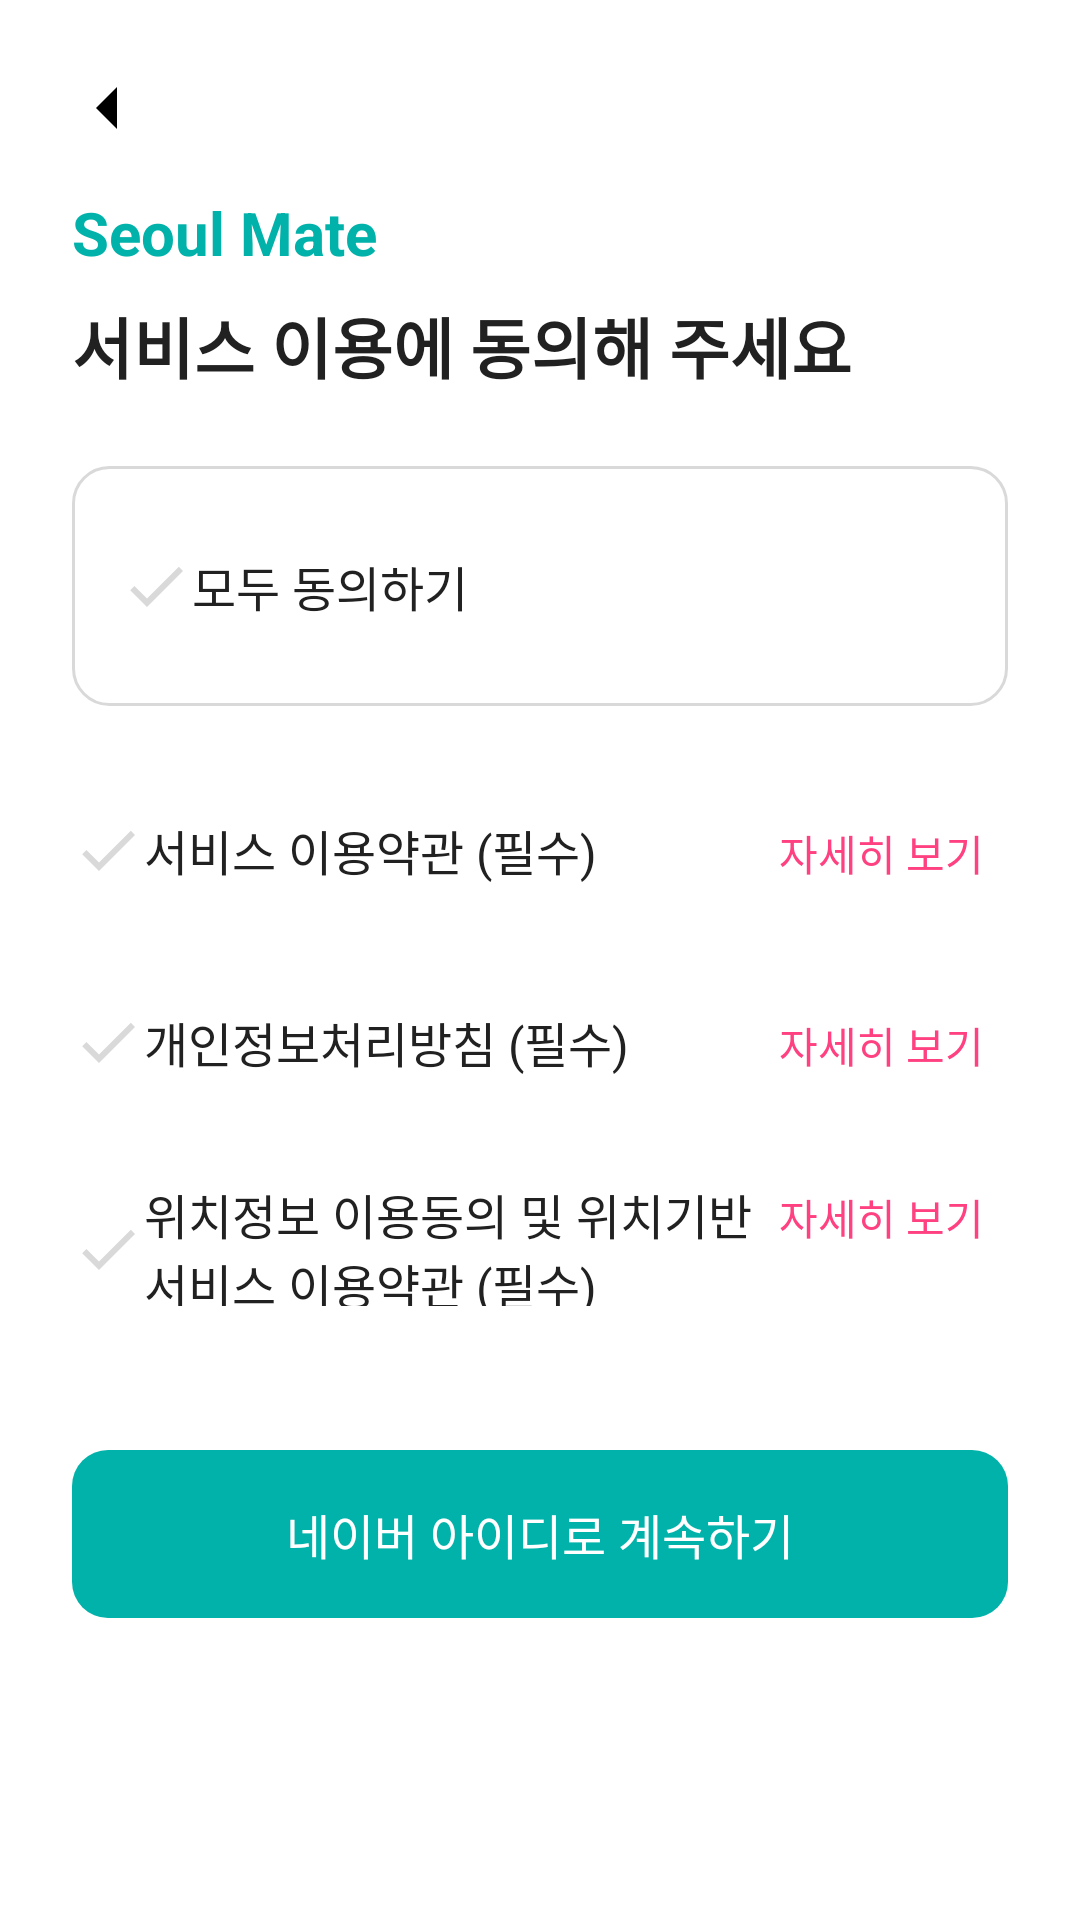

Icons on this 1080*1920 Android screen, each with the point to tap as (x,y):
뒤로 가기: (106,108)
